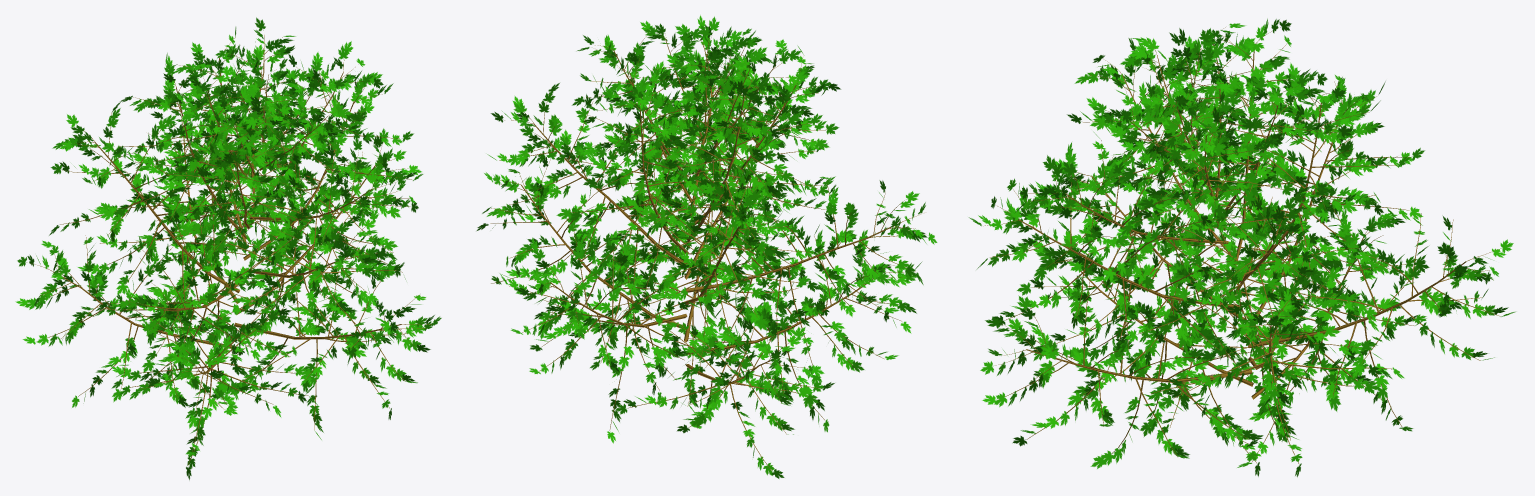
Rendered from Bush.glb.
3 views of the same model, side by side, from view 1: azimuth 30°, elevation 25°; view 2: azimuth 150°, elevation 25°; view 3: azimuth 270°, elevation 25° (orthographic). The views are drawn at different scales.
Visible parts, largest first — view 1: Foliage001, Foliage002; view 2: Foliage001, Foliage002; view 3: Foliage001, Foliage002.
Part boxes in pixels (left/top/right/bottom): Foliage001: left=15, top=17, right=441, bottom=480; Foliage002: left=31, top=35, right=431, bottom=464; Foliage001: left=476, top=15, right=937, bottom=478; Foliage002: left=490, top=34, right=924, bottom=470; Foliage001: left=968, top=18, right=1515, bottom=477; Foliage002: left=985, top=27, right=1500, bottom=464.
Bounding box in the file's own units: 8.45 × 8.52 × 9.33.
3 materials, 1 textured.
